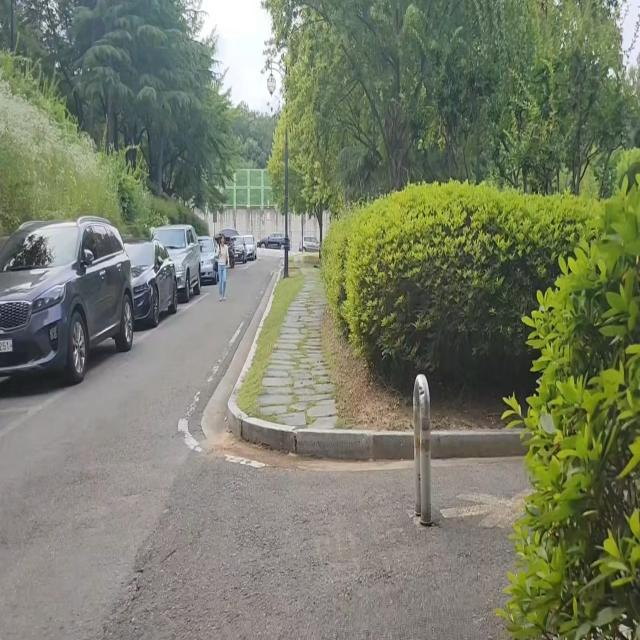obstacle: (119, 234, 183, 345), (402, 364, 440, 532), (151, 224, 214, 308), (215, 234, 233, 299)
road: (0, 256, 508, 640)
sidewalk: (235, 255, 358, 446)
